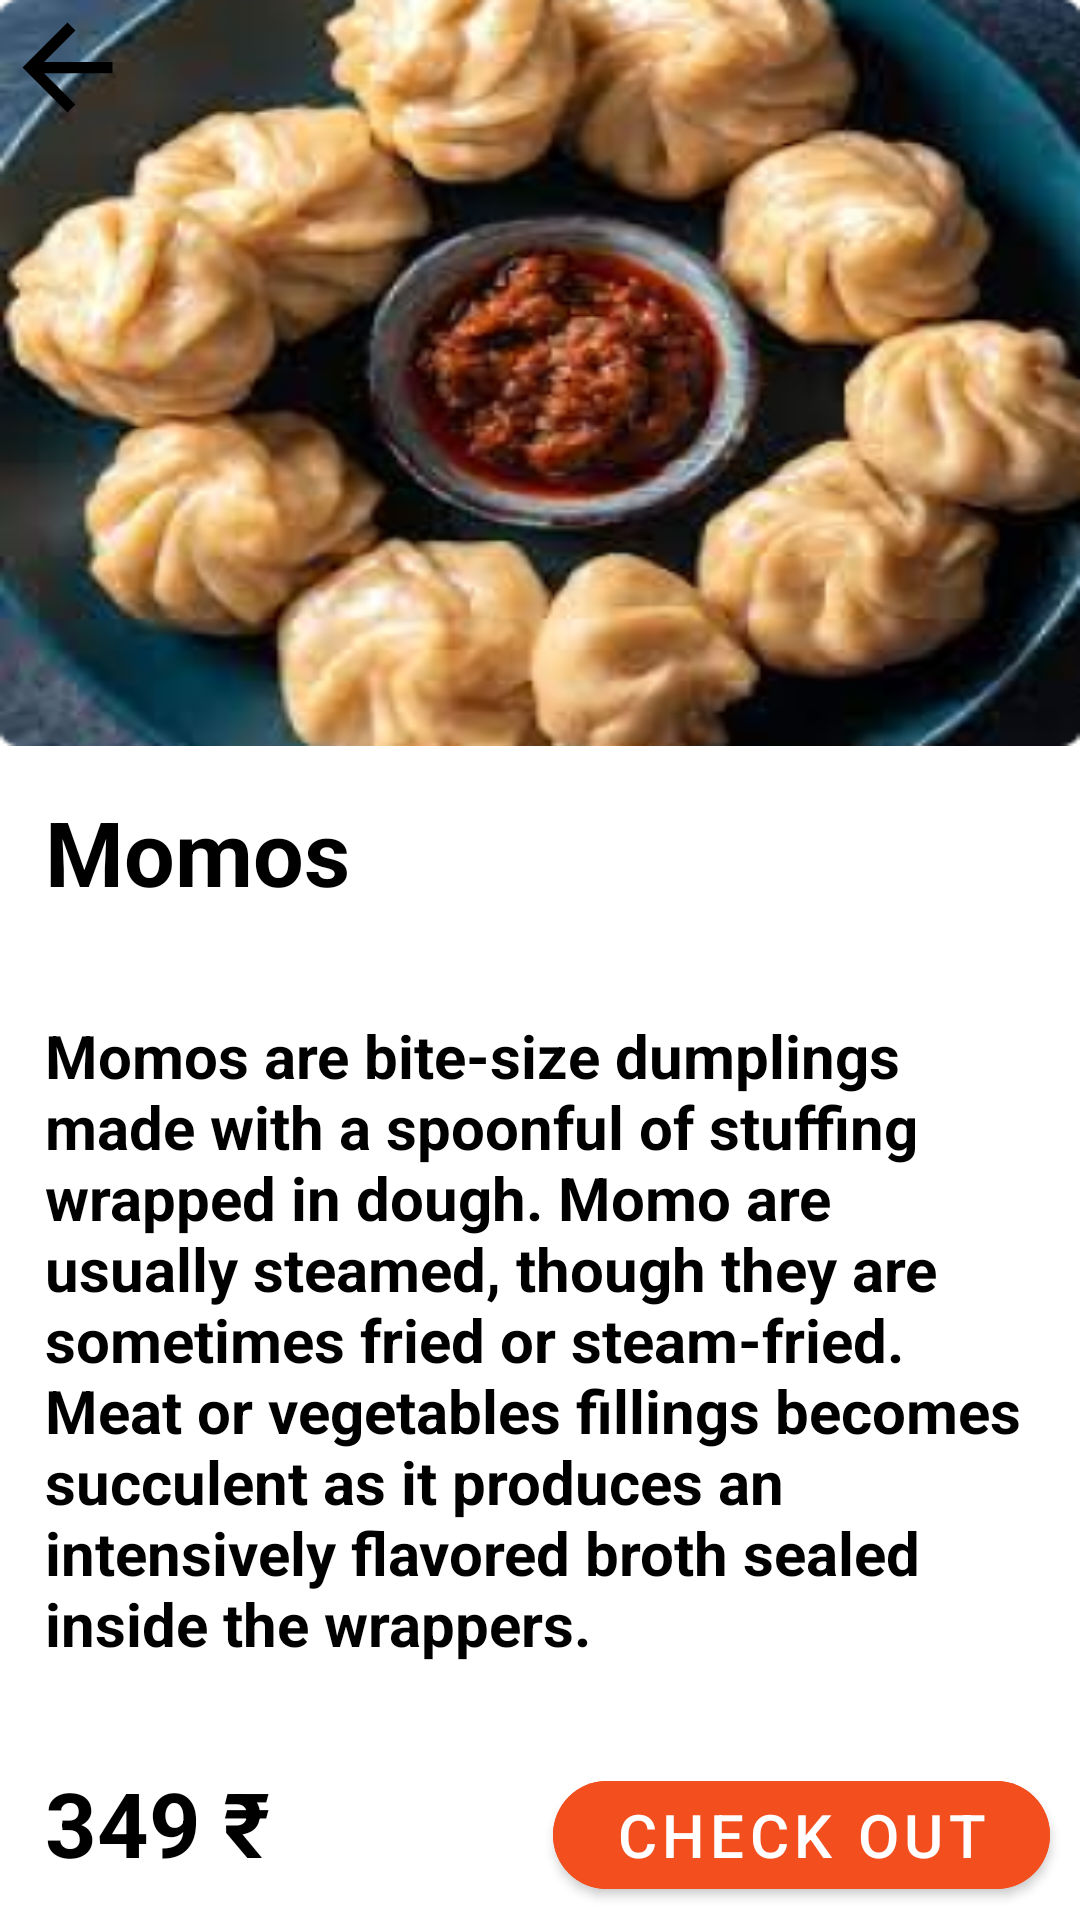

Where icons sit on this 1080 × 1920 app screen, as (x1, y1, x2, y2):
back: (0, 0, 135, 135)
